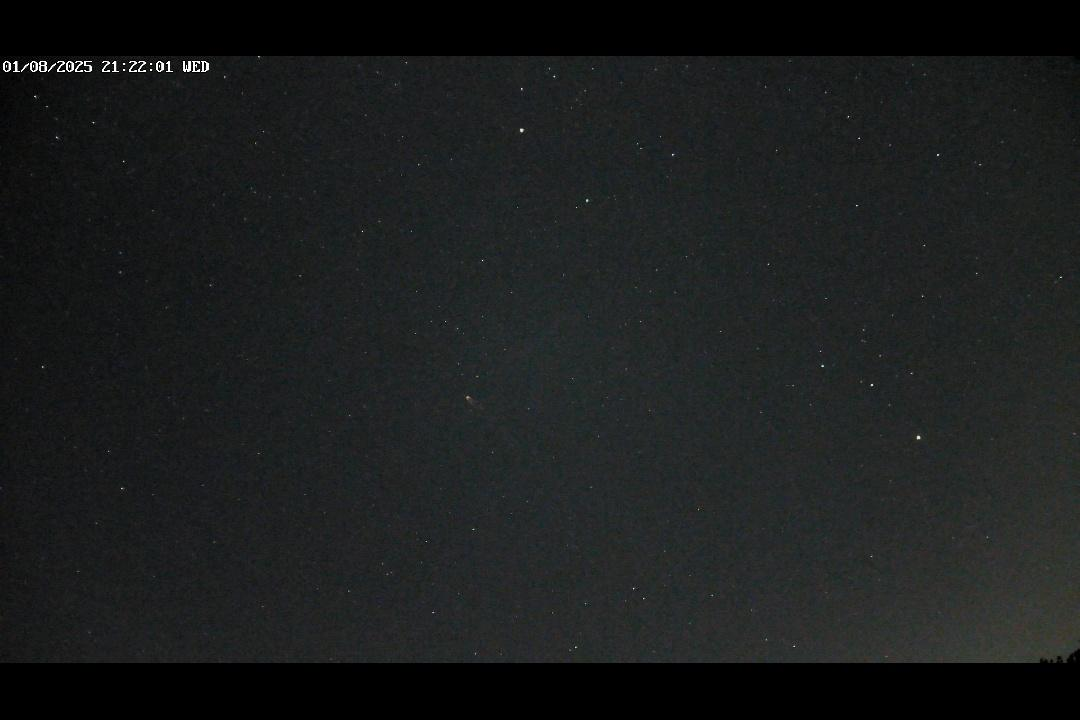Plane: (462, 393, 486, 411)
